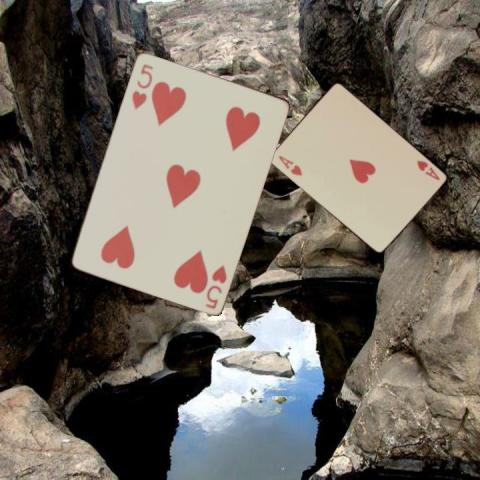5h: (128, 60, 154, 110), (202, 261, 228, 310)
Ah: (413, 157, 441, 182), (275, 153, 303, 177)
